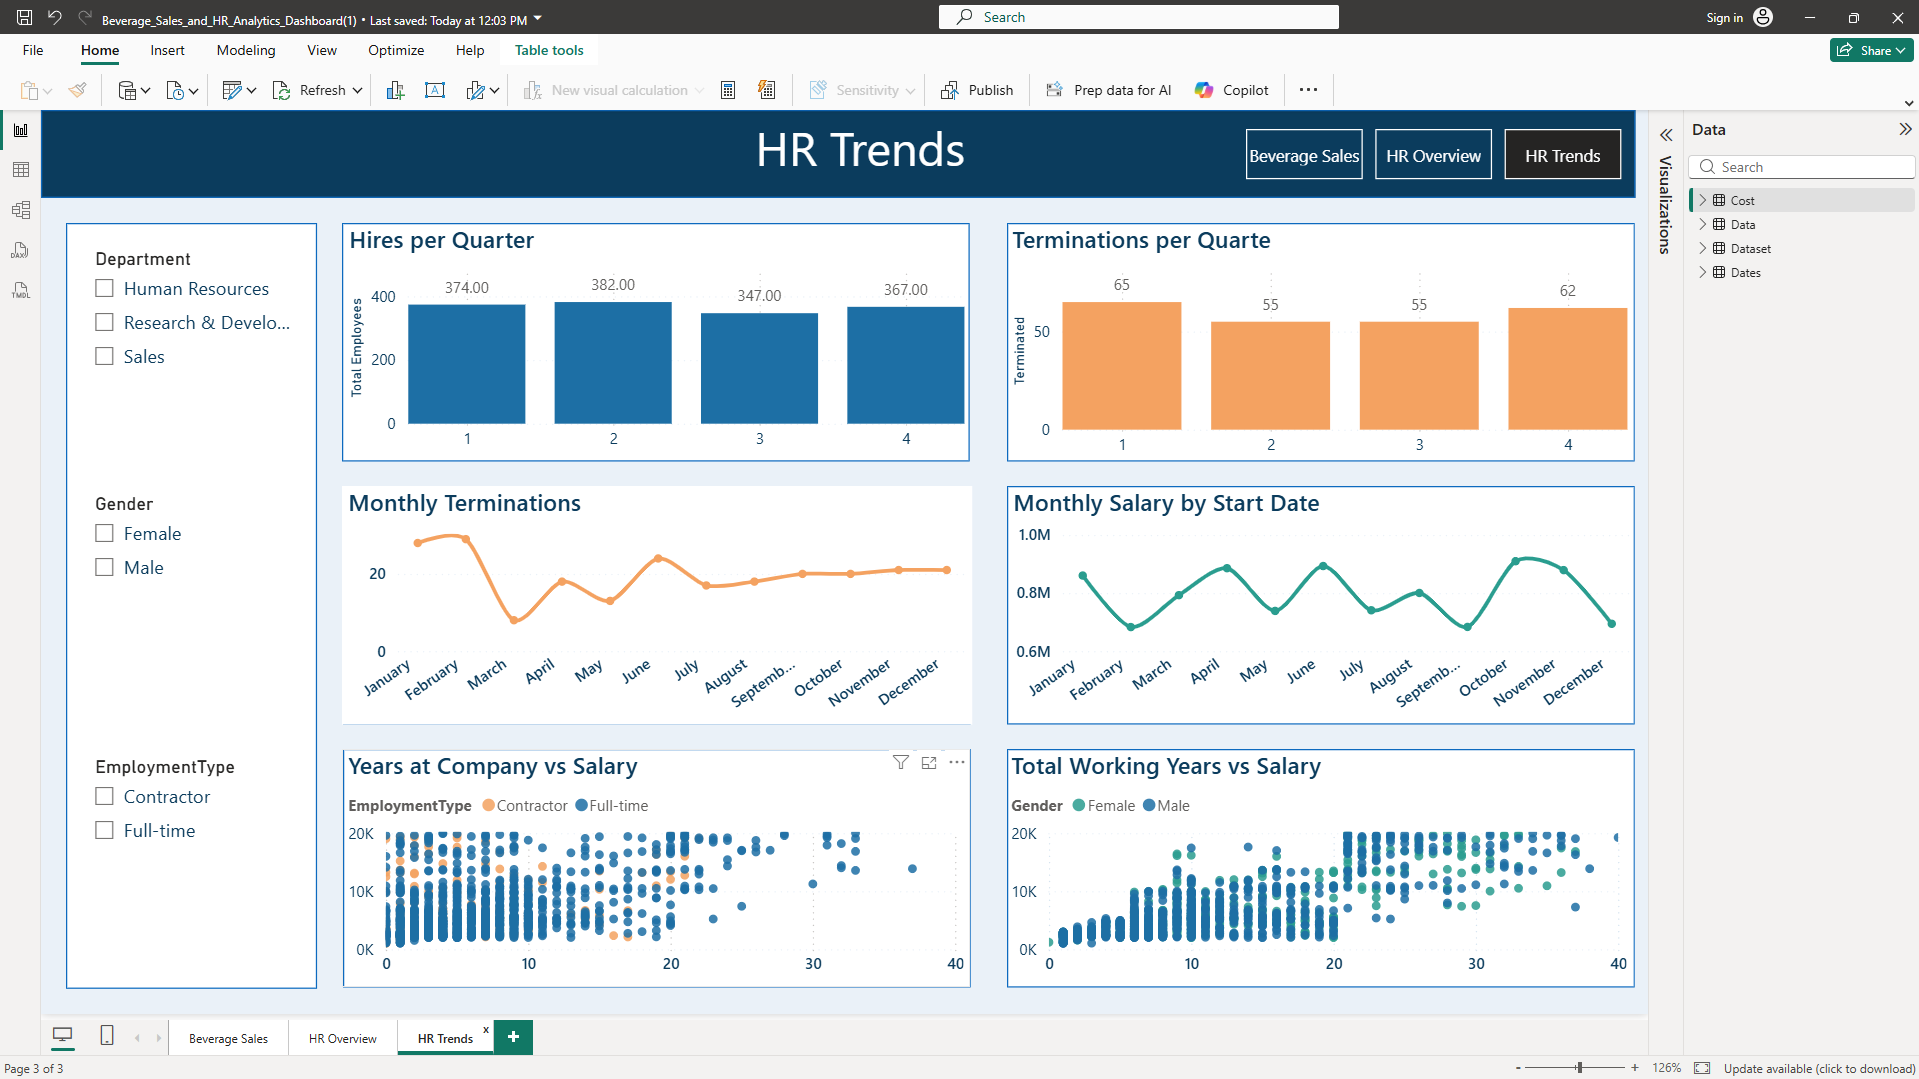

The dashboard page shown, as its layout file describes it:
{"tool":"powerbi","page":{"name":"HR Trends","canvas":[1280,720],"ordinal":2},"visuals":[{"type":"shape","box":[0,0,1270,70],"z":0},{"type":"shape","box":[20,90,200,610],"z":1},{"type":"shape","box":[240,90,500,190],"z":2},{"type":"shape","box":[769.2,89.7,500.1,190],"z":3},{"type":"shape","box":[240.2,299.5,500.1,190],"z":4},{"type":"shape","box":[769.2,299.5,500.1,190],"z":5},{"type":"shape","box":[240.2,509.3,500.1,190],"z":6},{"type":"shape","box":[769.2,509.3,500.1,190],"z":7},{"type":"textbox","box":[209.8,0,886.3,69.9],"z":8},{"type":"slicer","fields":{"Values":["Dataset.Department"]},"box":[30,105,180,190],"z":9},{"type":"slicer","fields":{"Values":["Dataset.Gender"]},"box":[30,300,180,190],"z":10},{"type":"slicer","fields":{"Values":["Dataset.EmploymentType"]},"box":[30,510,180,190],"z":11},{"type":"pageNavigator","box":[960,15,300,40],"z":12},{"type":"clusteredColumnChart","title":"Hires per Quarter","fields":{"Category":["Dataset.Hire Quarter"],"Y":["Dataset.Total Employees"]},"box":[240.5,90.2,500,189.9],"z":13},{"type":"clusteredColumnChart","title":"Terminations per Quarte","fields":{"Category":["Dataset.Termination Quarter"],"Y":["Cost.Terminated"]},"box":[768.9,90.2,500,194.6],"z":14},{"type":"lineChart","title":"Monthly Terminations","fields":{"Category":["Dataset.Termination Month.Variation.Date Hierarchy.Month"],"Y":["Cost.Terminated"]},"box":[239.4,299.2,502,189.5],"z":15},{"type":"lineChart","title":"Monthly Salary by Start Date","fields":{"Category":["Dataset.Start Month.Variation.Date Hierarchy.Month"],"Y":["Cost.Total Salary"]},"box":[769.7,299.2,502,189.5],"z":16},{"type":"scatterChart","title":"Years at Company vs Salary","fields":{"Category":["Dataset.ID_employe"],"X":["Sum(Dataset.YearsAtCompany)"],"Y":["Sum(Dataset.Salary)"],"Series":["Dataset.EmploymentType"]},"box":[239.4,508.7,500.4,189.5],"z":17},{"type":"scatterChart","title":"Total Working Years vs Salary","fields":{"Category":["Dataset.ID_employe"],"X":["Sum(Dataset.TotalWorkingYears)"],"Y":["Sum(Dataset.Salary)"],"Series":["Dataset.Gender"]},"box":[768,508.7,500.4,189.5],"z":18}]}

Visuals, with their boxes on the page's 1280x720 design canvas (x1, y1, x2, y2). These are canvas units, not pixel positions in the 1919x1079 screenshot, which may show the page scaled, cropped or inside an application window:
shape: (left=0, top=0, right=1270, bottom=70)
shape: (left=20, top=90, right=220, bottom=700)
shape: (left=240, top=90, right=740, bottom=280)
shape: (left=769, top=90, right=1269, bottom=280)
shape: (left=240, top=300, right=740, bottom=490)
shape: (left=769, top=300, right=1269, bottom=490)
shape: (left=240, top=509, right=740, bottom=699)
shape: (left=769, top=509, right=1269, bottom=699)
textbox: (left=210, top=0, right=1096, bottom=70)
slicer - Dataset.Department: (left=30, top=105, right=210, bottom=295)
slicer - Dataset.Gender: (left=30, top=300, right=210, bottom=490)
slicer - Dataset.EmploymentType: (left=30, top=510, right=210, bottom=700)
pageNavigator: (left=960, top=15, right=1260, bottom=55)
"Hires per Quarter" clusteredColumnChart: (left=240, top=90, right=740, bottom=280)
"Terminations per Quarte" clusteredColumnChart: (left=769, top=90, right=1269, bottom=285)
"Monthly Terminations" lineChart: (left=239, top=299, right=741, bottom=489)
"Monthly Salary by Start Date" lineChart: (left=770, top=299, right=1272, bottom=489)
"Years at Company vs Salary" scatterChart: (left=239, top=509, right=740, bottom=698)
"Total Working Years vs Salary" scatterChart: (left=768, top=509, right=1268, bottom=698)
